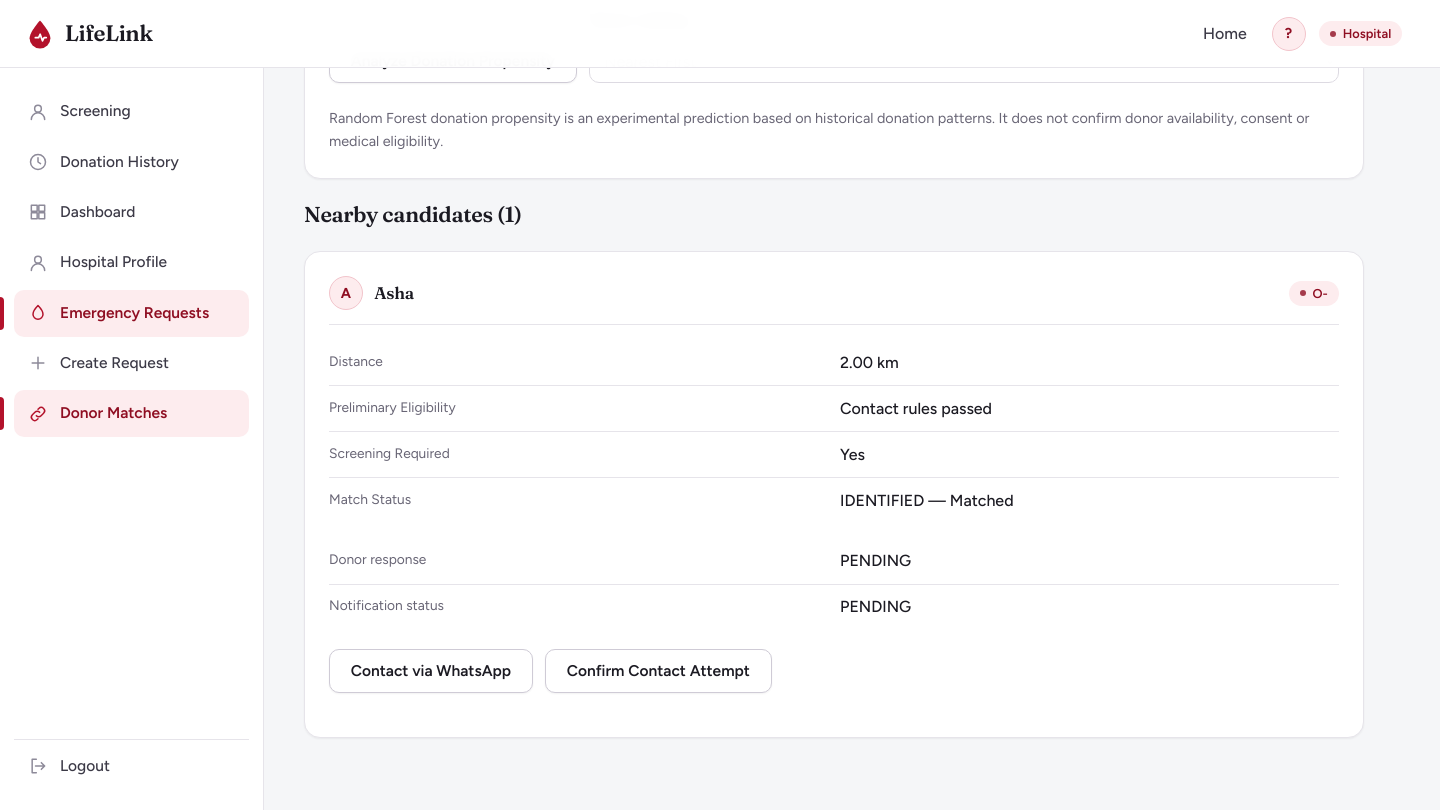
Scenario: shows missing phone errors without opening a link
(page scrolled)
Click the button "Contact via WhatsApp": x=431, y=671 [329,649,533,693]
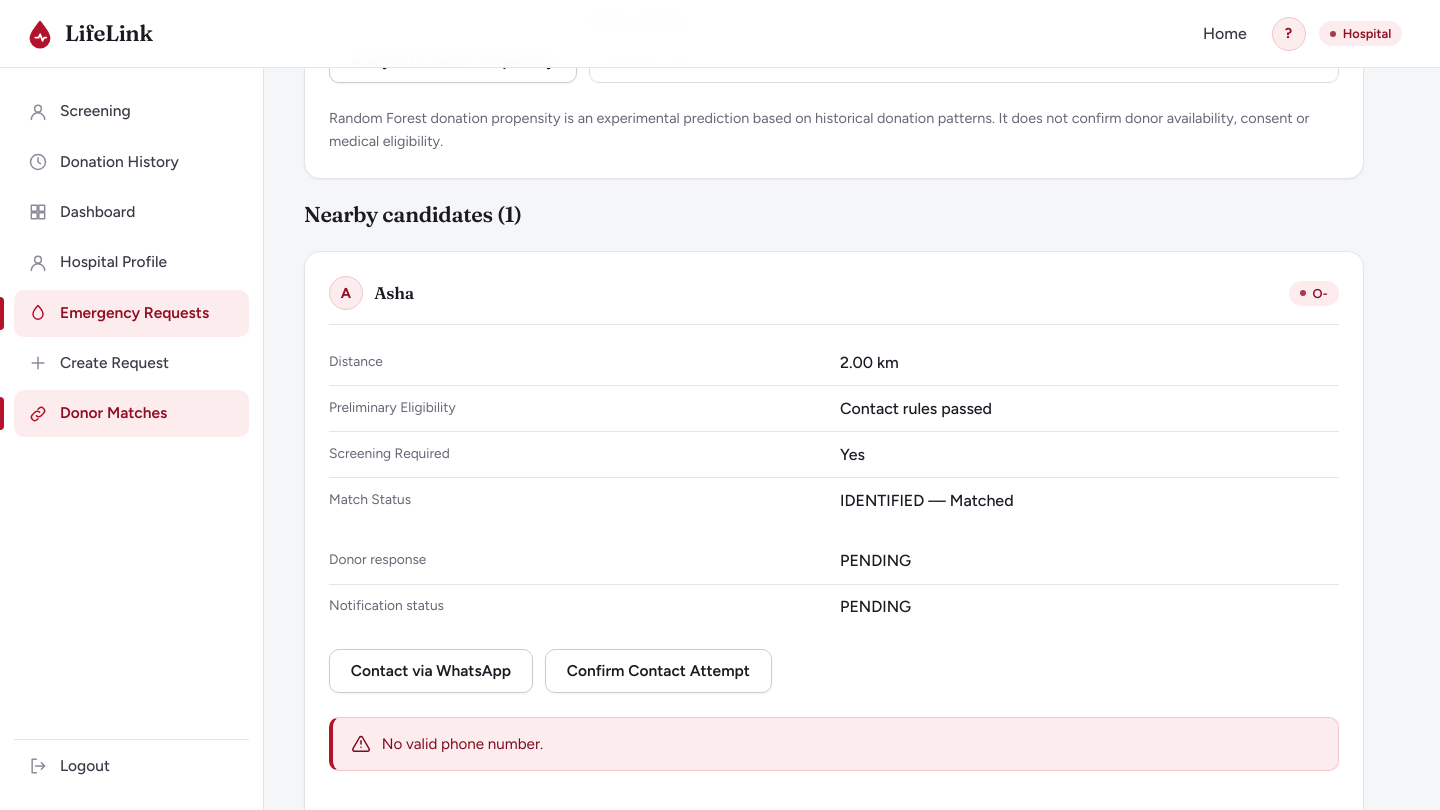
Expected: the text "No valid phone number." is shown, [382,735,543,753]
